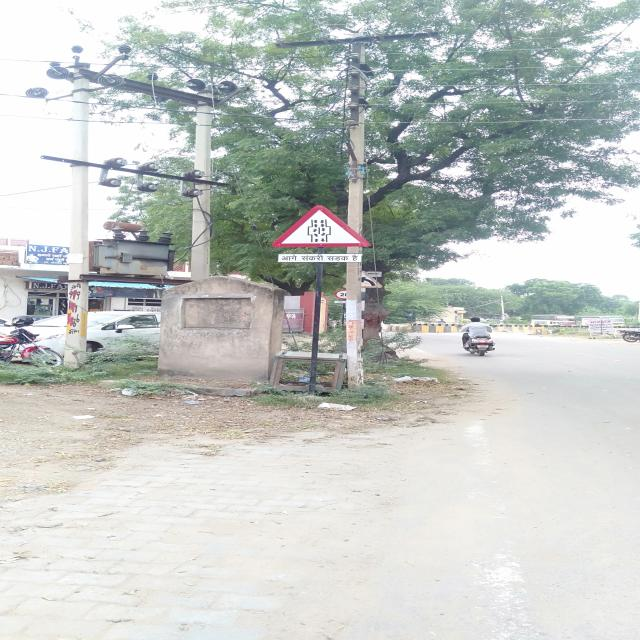WARNING: (271, 204, 372, 248)
